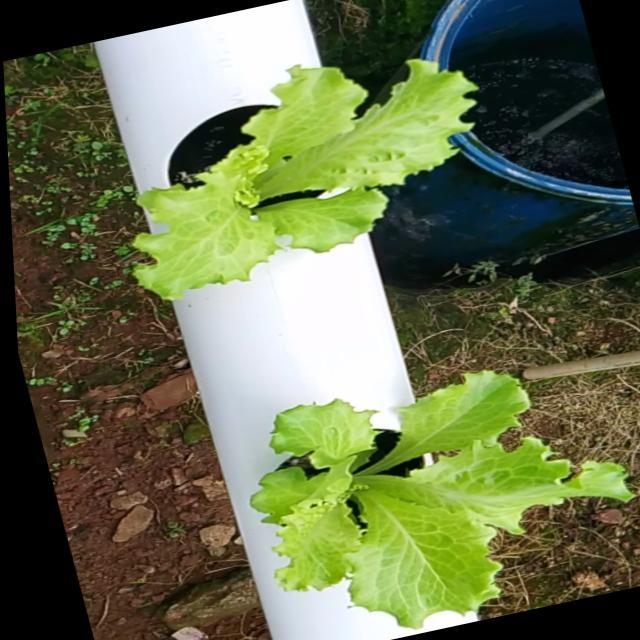Baby: (250, 369, 633, 630), (132, 56, 476, 296)
